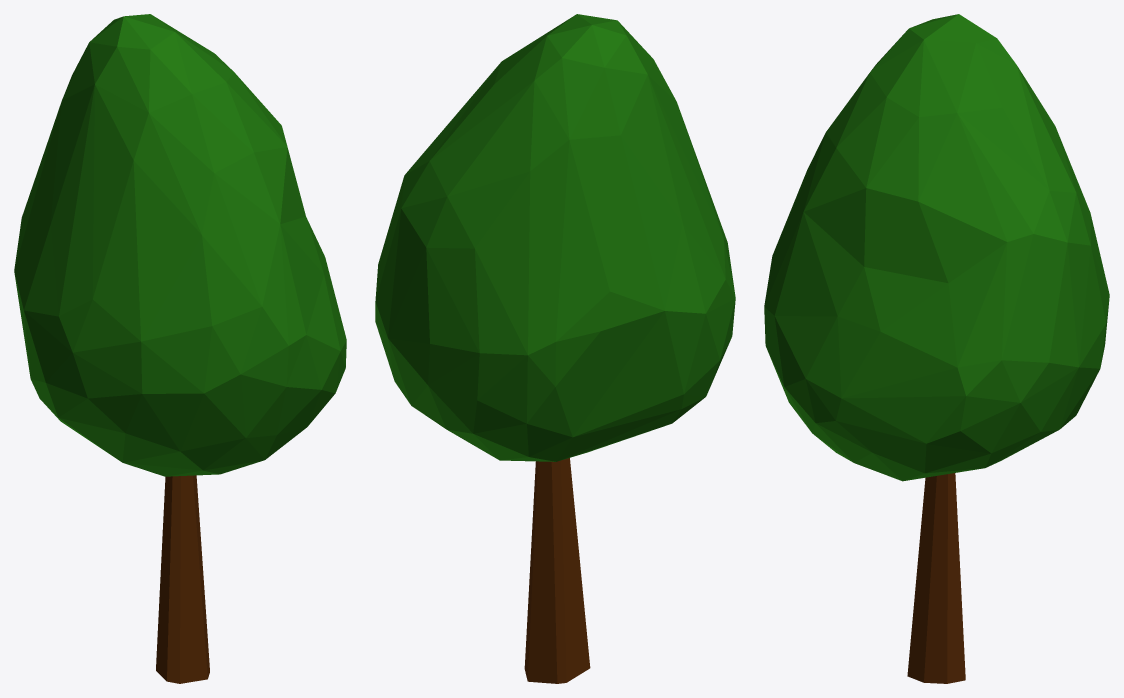
Rendered from tree_2.glb.
3 renders of one model, left to right at view 1: azimuth 30°, elevation 25°; view 2: azimuth 150°, elevation 25°; view 3: azimuth 270°, elevation 25°, orthographic. The views are drawn at different scales.
Visible parts, largest first — view 1: tree_2; view 2: tree_2; view 3: tree_2.
Part boxes in pixels (<box>): tree_2: <box>14,14,346,683</box>; tree_2: <box>375,14,735,683</box>; tree_2: <box>764,14,1109,683</box>.
Size of the model in its own units: 1.32 by 2.73 by 1.34.
